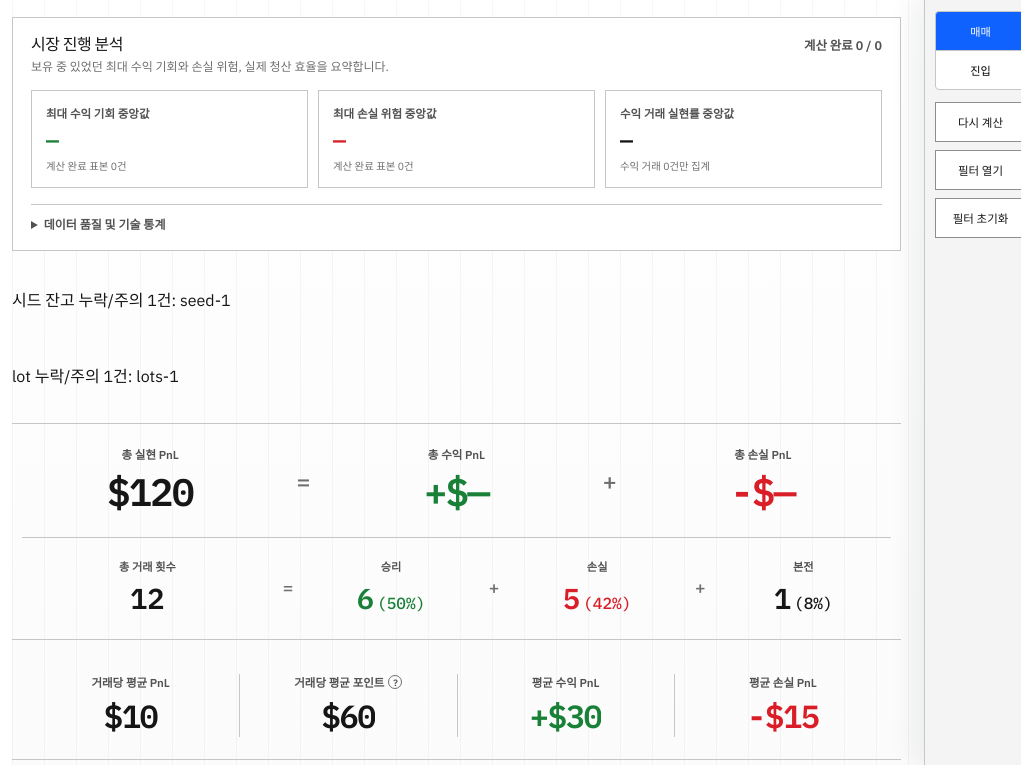
StatsPage › keeps the chart on the latest symbol-filter response when an older request resolves last
The width and height of the screenshot is (1036, 765).
Click the button "필터 열기" at [980, 170], box [935, 150, 1026, 190]
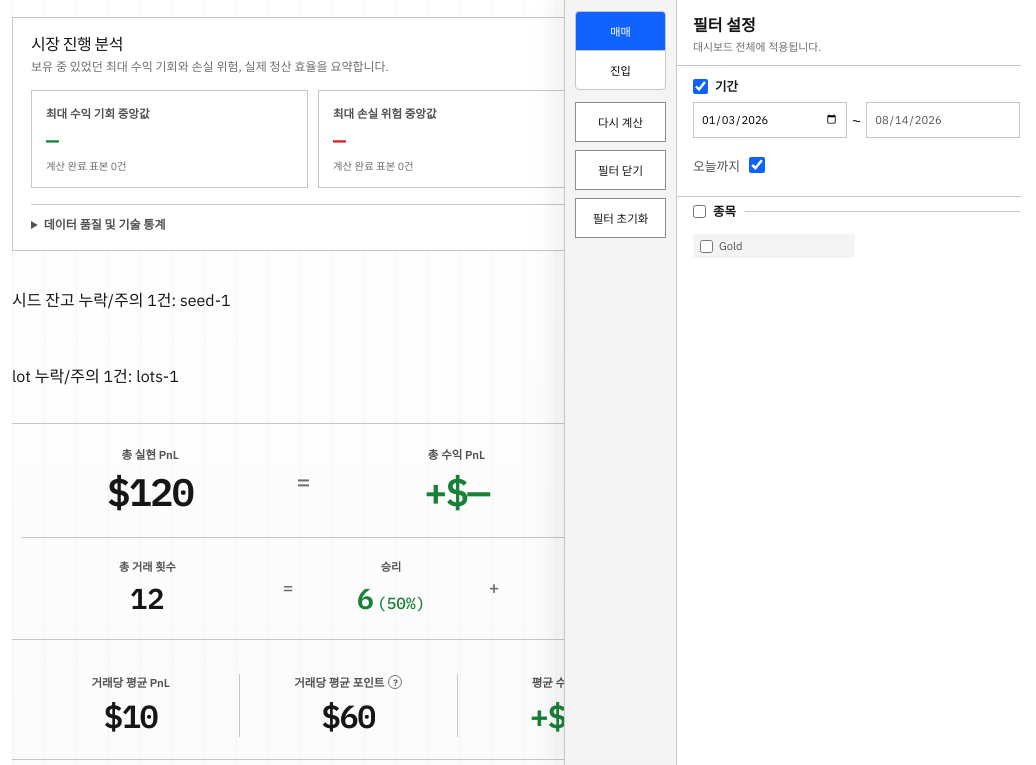
Click the checkbox labelled "Gold" at [706, 246], box [700, 240, 713, 252]
(page scrolled)
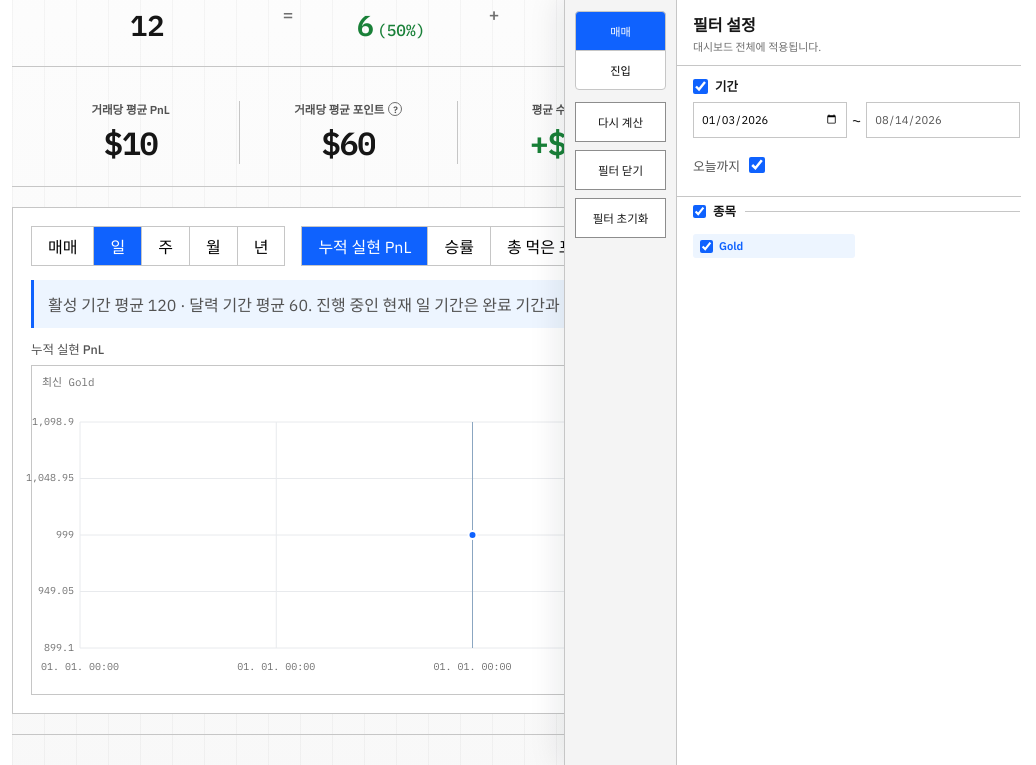
Check: the element with class "stats-line-chart-legend" does not show "오래된 EURUSD", box [42, 374, 871, 389]
Check: the element with class "stats-line-chart-legend" shows "최신 Gold", box [42, 375, 95, 389]
